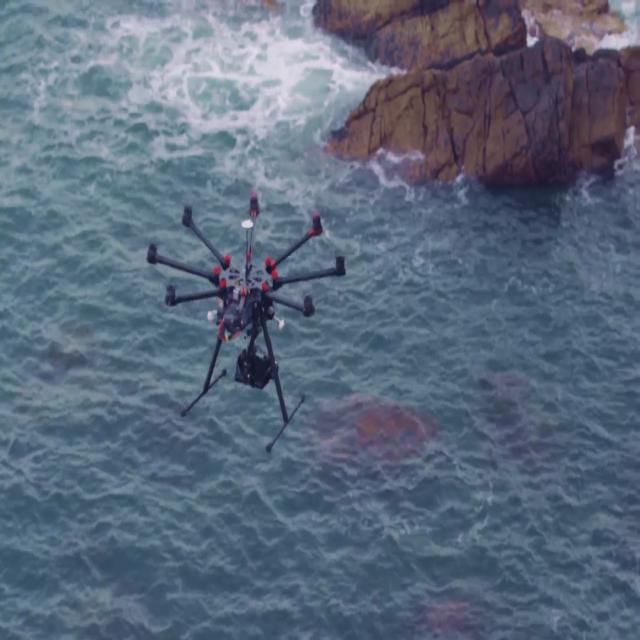drone: (158, 169, 336, 420)
